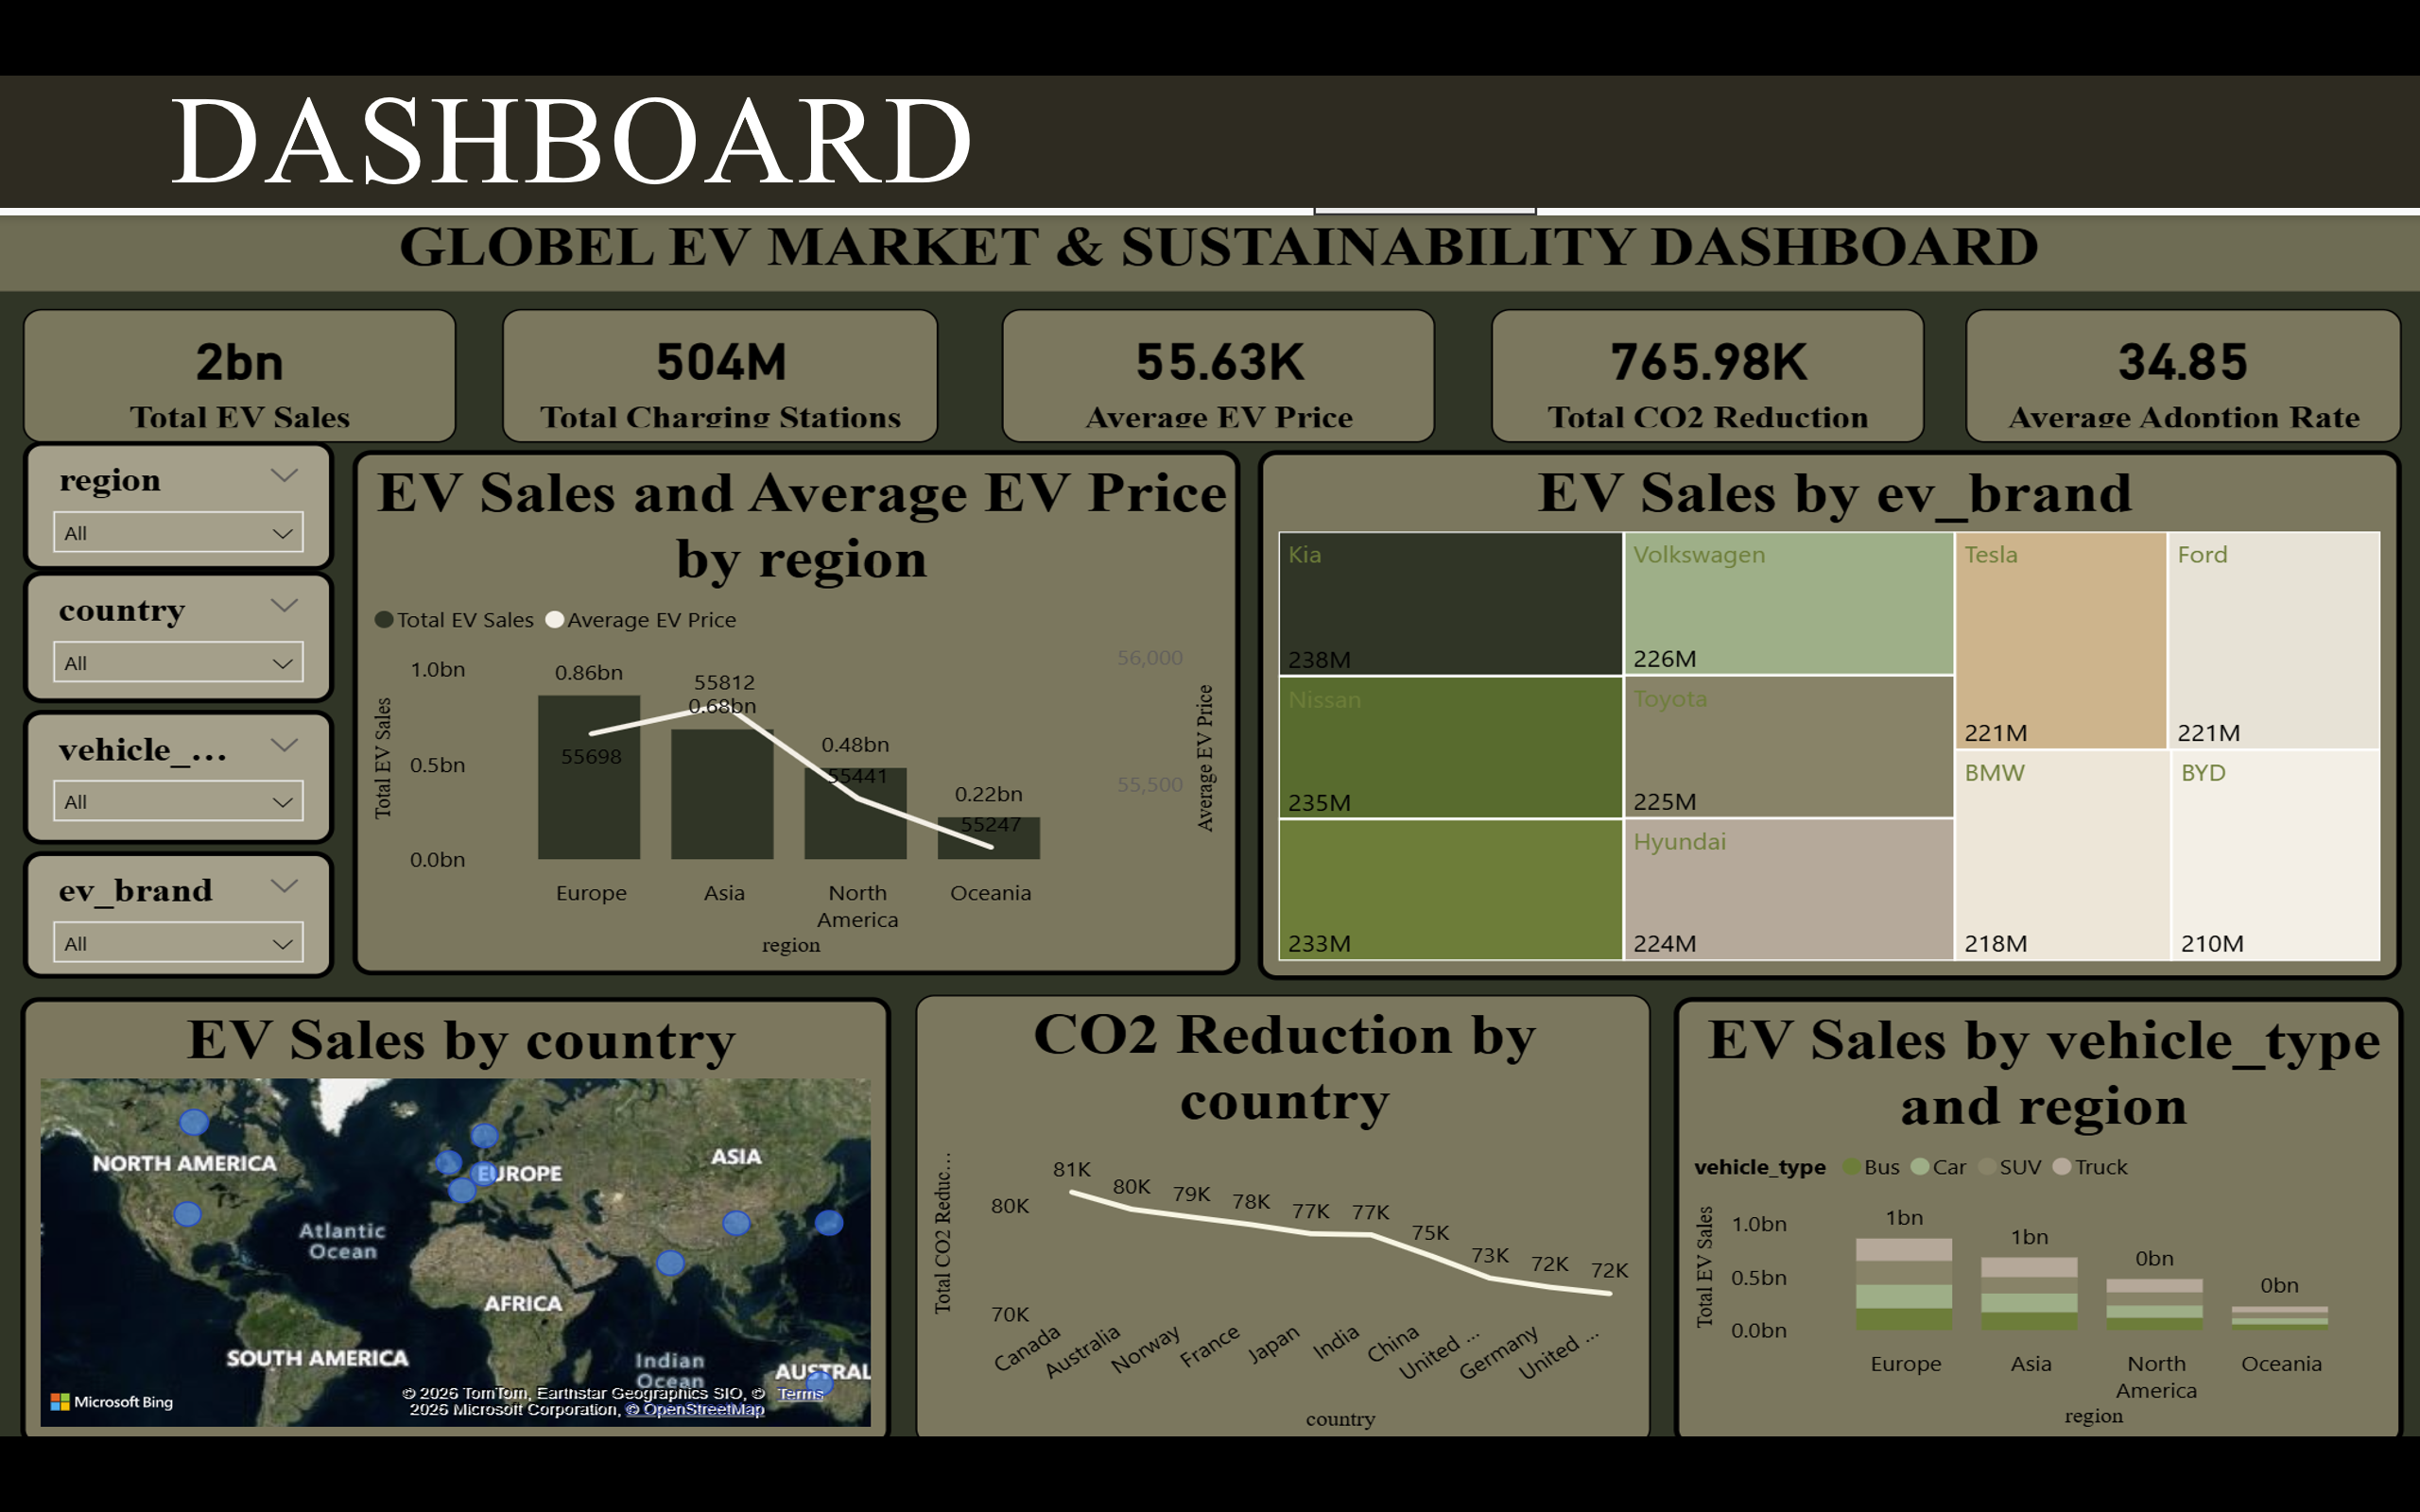

What the dashboard file says about the page in this screenshot:
{"tool":"powerbi","page":{"name":"DASHBOARD","canvas":[1280,720],"ordinal":4},"visuals":[{"type":"textbox","title":"GLOBEL EV MARKET & SUSTAINABILITY DASHBOARD","box":[0,0,1280.8,44.5],"z":0},{"type":"card","fields":{"Values":["EV_Data.Total EV Sales"]},"box":[11.4,54.1,228,78.4],"z":1000},{"type":"card","fields":{"Values":["EV_Data.Total Charging Stations"]},"box":[263.6,54.1,229.4,78.4],"z":2000},{"type":"card","fields":{"Values":["EV_Data.Average EV Price"]},"box":[525.8,54.1,228,78.4],"z":3000},{"type":"card","fields":{"Values":["EV_Data.Total CO2 Reduction"]},"box":[783.7,54.1,228,78.4],"z":4000},{"type":"card","fields":{"Values":["EV_Data.Average Adoption Rate"]},"box":[1033.1,54.1,229.4,78.4],"z":5000},{"type":"slicer","fields":{"Values":["EV_Data.region"]},"box":[11.5,132.1,163.7,76.1],"z":6000},{"type":"slicer","fields":{"Values":["EV_Data.country"]},"box":[11.5,208.2,163.7,77.5],"z":7000},{"type":"slicer","fields":{"Values":["EV_Data.vehicle_type"]},"box":[11.5,288.6,163.7,79],"z":8000},{"type":"slicer","fields":{"Values":["EV_Data.ev_brand"]},"box":[11.5,371.9,163.7,74.7],"z":9000},{"type":"map","title":" EV Sales by country","fields":{"Category":["EV_Data.country"],"Size":["Sum(EV_Data.ev_sales_units)"]},"box":[11.1,456.5,457.7,262.8],"z":10000},{"type":"clusteredColumnChart","title":"EV Sales by region","fields":{"Category":["EV_Data.region"],"Y":["EV_Data.Total EV Sales"]},"box":[478.7,456.5,391.1,262.8],"z":11000},{"type":"columnChart","title":"EV Sales by vehicle_type and region","fields":{"Category":["EV_Data.region"],"Y":["EV_Data.Total EV Sales"],"Series":["EV_Data.vehicle_type"]},"box":[878.7,456.6,383.4,262.8],"z":12000},{"type":"treemap","title":"EV Sales by ev_brand","fields":{"Group":["EV_Data.ev_brand"],"Values":["EV_Data.Total EV Sales"]},"box":[661.3,136.9,600.9,309.7],"z":13000},{"type":"lineClusteredColumnComboChart","title":"EV Sales and Average EV Price by region","fields":{"Category":["EV_Data.region"],"Y":["EV_Data.Total EV Sales"],"Y2":["EV_Data.Average EV Price"]},"box":[185.1,136.9,466.4,307.2],"z":14000}]}

Visuals, with their boxes on the page's 1280x720 design canvas (x1, y1, x2, y2). These are canvas units, not pixel positions in the 2420x1512 screenshot, which may show the page scaled, cropped or inside an application window:
"GLOBEL EV MARKET & SUSTAINABILITY DASHBOARD" textbox: l=0, t=0, r=1281, b=44
card - EV_Data.Total EV Sales: l=11, t=54, r=239, b=132
card - EV_Data.Total Charging Stations: l=264, t=54, r=493, b=132
card - EV_Data.Average EV Price: l=526, t=54, r=754, b=132
card - EV_Data.Total CO2 Reduction: l=784, t=54, r=1012, b=132
card - EV_Data.Average Adoption Rate: l=1033, t=54, r=1262, b=132
slicer - EV_Data.region: l=12, t=132, r=175, b=208
slicer - EV_Data.country: l=12, t=208, r=175, b=286
slicer - EV_Data.vehicle_type: l=12, t=289, r=175, b=368
slicer - EV_Data.ev_brand: l=12, t=372, r=175, b=447
" EV Sales by country" map: l=11, t=456, r=469, b=719
"EV Sales by region" clusteredColumnChart: l=479, t=456, r=870, b=719
"EV Sales by vehicle_type and region" columnChart: l=879, t=457, r=1262, b=719
"EV Sales by ev_brand" treemap: l=661, t=137, r=1262, b=447
"EV Sales and Average EV Price by region" lineClusteredColumnComboChart: l=185, t=137, r=652, b=444
